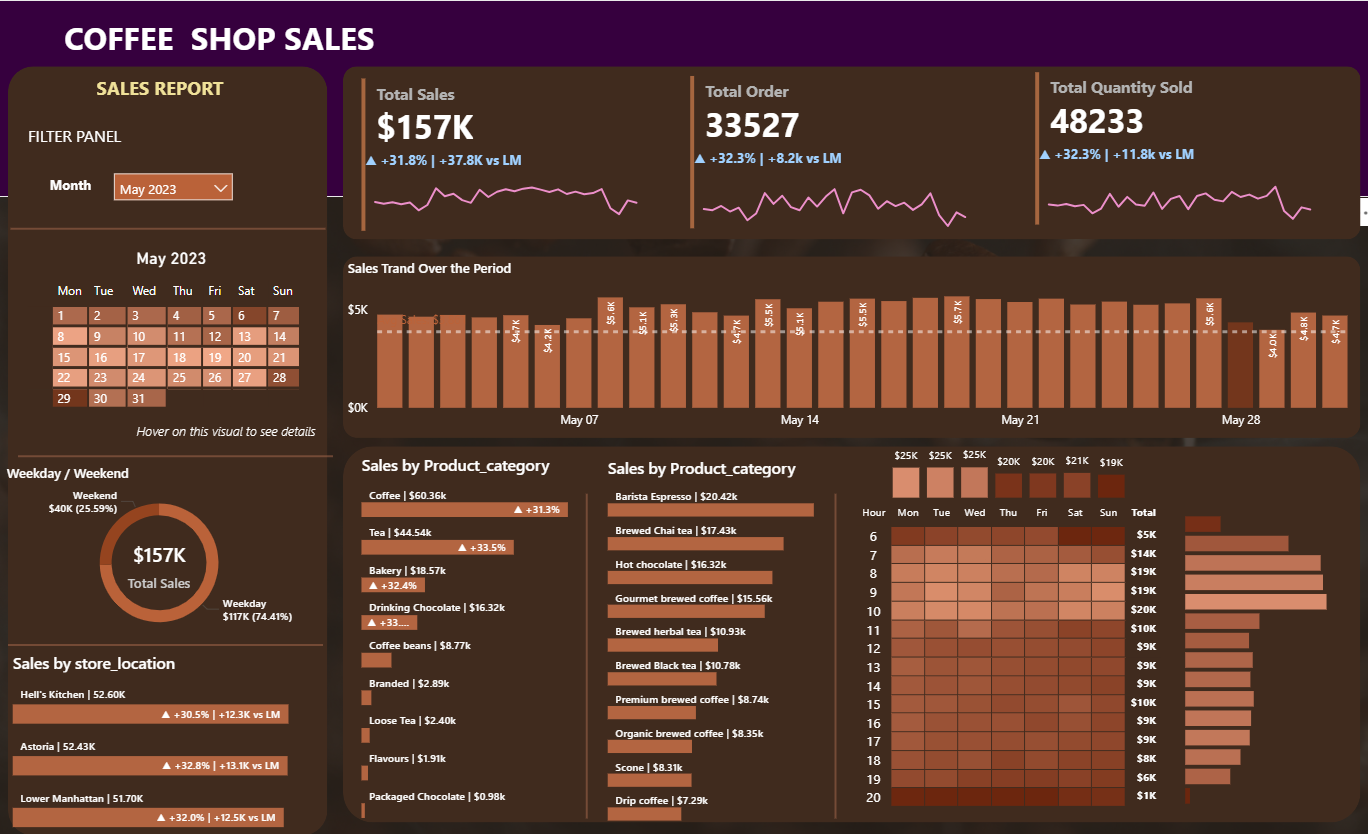

The dashboard page shown, as its layout file describes it:
{"tool":"powerbi","page":{"name":"Coffee shop Dashboard","canvas":[1400,850],"ordinal":0},"visuals":[{"type":"shape","box":[0,0,1400,200],"z":0},{"type":"cardVisual","fields":{"Data":["Transactions.Total Quantity Sold"]},"box":[1050,68.4,300,165],"z":0,"group":"g3"},{"type":"cardVisual","fields":{"Data":["Transactions.Total Order"]},"box":[700,72.4,300,165],"z":0,"group":"g2"},{"type":"cardVisual","fields":{"Data":["Transactions.Total Sales"]},"box":[364.5,75,300,165],"z":0,"group":"g1"},{"type":"donutChart","title":" Weekday / Weekend","fields":{"Category":["Date Table.Weekday / Weekend"],"Y":["Transactions.Total Sales"]},"box":[3.8,471.8,320.5,184.4],"z":0,"group":"g4"},{"type":"shape","box":[10.5,67.1,325,782.9],"z":1000},{"type":"lineChart","fields":{"Category":["Date Table.Date Hierarchy.Date"],"Y":["Transactions.Total Quantity Sold"]},"box":[1053.9,147.3,296.1,85.5],"z":1000,"group":"g3"},{"type":"lineChart","fields":{"Category":["Date Table.Date Hierarchy.Date"],"Y":["Transactions.Total Order"]},"box":[703.9,151.3,296.1,85.5],"z":1000,"group":"g2"},{"type":"lineChart","fields":{"Category":["Date Table.Date Hierarchy.Date"],"Y":["Transactions.Total Sales"]},"box":[368.4,153.9,296.1,85.5],"z":1000,"group":"g1"},{"type":"card","fields":{"Values":["Transactions.Total Sales"]},"box":[122.1,547.2,83.9,56.8],"z":1000,"group":"g4"},{"type":"shape","box":[351.3,67.1,1035.5,176.3],"z":2000},{"type":"textbox","box":[61.8,11.8,344.7,55.3],"z":3000},{"type":"slicer","fields":{"Values":["Date Table.Month Year"]},"box":[113.2,171.7,131,34.3],"z":4000},{"type":"group","id":"g1","title":"Group 1","box":[364.5,75,300,164.5],"z":5000},{"type":"group","id":"g2","title":"Group 1","box":[700,72.4,300,164.5],"z":6000},{"type":"group","id":"g3","title":"Group 1","box":[1050,68.4,300,164.5],"z":7000},{"type":"pivotTable","fields":{"Rows":["Date Table.Week Number"],"Columns":["Date Table.Day Name"],"Values":["Min(Date Table.Day Number)"]},"box":[25.3,281,305.1,167.1],"z":8000},{"type":"card","fields":{"Values":["Min(Date Table.Month Year)"]},"box":[108.9,245.6,130.4,35.4],"z":9000},{"type":"card","fields":{"Values":["Transactions.Foot Notes"]},"box":[124.1,425.3,211.4,22.8],"z":10000},{"type":"shape","box":[10.2,649.9,320.5,12.7],"z":11000},{"type":"shape","box":[12.7,226.4,320.5,12.7],"z":12000},{"type":"clusteredBarChart","title":"Sales by store_location","fields":{"Category":["Transactions.store_location"],"Y":["Transactions.PlaceHolder","Transactions.Total Sales"]},"box":[10.2,662.6,318,187],"z":13000},{"type":"group","id":"g4","title":"Group 2","box":[3.8,471.8,320.5,184.4],"z":14000},{"type":"shape","box":[665.2,496,320.5,12.7],"z":15000},{"type":"shape","box":[351,454,1035.3,382.8],"z":16000},{"type":"shape","box":[351,260.7,1035.3,185],"z":17000},{"type":"columnChart","title":"Sales Trand Over the Period","fields":{"Category":["Transactions.transaction_date"],"Y":["Transactions.Total Sales"]},"box":[351,263.3,1035.3,181.9],"z":18000},{"type":"clusteredBarChart","title":"Sales by Product_category","fields":{"Y":["Transactions.PlaceHolder","Transactions.Total Sales"],"Category":["Transactions.product_category"]},"box":[365,461.7,250.5,376.5],"z":19000},{"type":"shape","box":[20.2,457.7,320.5,12.7],"z":20000},{"type":"shape","box":[592.7,502.4,12.7,330.7],"z":21000},{"type":"clusteredBarChart","title":"Sales by Product_category","fields":{"Y":["Transactions.PlaceHolder","Transactions.Total Sales"],"Category":["Transactions.product_type"]},"box":[615.6,464.2,253.1,376.5],"z":22000},{"type":"shape","box":[845.8,502.4,12.7,330.7],"z":23000},{"type":"pivotTable","fields":{"Rows":["Transactions.Hour"],"Columns":["Date Table.Day Name"],"Values":["Transactions.Total Sales"]},"box":[868.6,508.7,334.5,318],"z":24000},{"type":"clusteredBarChart","fields":{"Category":["Transactions.Hour"],"Y":["Transactions.Total Sales"]},"box":[1203.1,512.5,156.4,310.3],"z":25000},{"type":"clusteredColumnChart","fields":{"Y":["Transactions.Total Sales"],"Category":["Date Table.Day Name"]},"box":[905.5,445.1,246.7,67.4],"z":26000},{"type":"textbox","box":[38.2,174.2,71.2,31.8],"z":27000},{"type":"textbox","box":[86.5,57.2,167.9,59.8],"z":28000},{"type":"textbox","box":[25.4,122.1,109.4,35.6],"z":29000}]}

Visuals, with their boxes in screenshot pixels (x1, y1, x2, y2), scaled from the page's 1400x850 canvas onto the 1368x834 screenshot:
shape: select_region(0, 0, 1367, 196)
cardVisual - Transactions.Total Quantity Sold: select_region(1026, 67, 1319, 229)
cardVisual - Transactions.Total Order: select_region(684, 71, 977, 233)
cardVisual - Transactions.Total Sales: select_region(356, 74, 649, 235)
" Weekday / Weekend" donutChart: select_region(4, 463, 317, 644)
shape: select_region(10, 66, 328, 833)
lineChart - Date Table.Date Hierarchy.Date x Transactions.Total Quantity Sold: select_region(1030, 145, 1319, 228)
lineChart - Date Table.Date Hierarchy.Date x Transactions.Total Order: select_region(688, 148, 977, 232)
lineChart - Date Table.Date Hierarchy.Date x Transactions.Total Sales: select_region(360, 151, 649, 235)
card - Transactions.Total Sales: select_region(119, 537, 201, 593)
shape: select_region(343, 66, 1355, 239)
textbox: select_region(60, 12, 397, 66)
slicer - Date Table.Month Year: select_region(111, 168, 239, 202)
"Group 1" group: select_region(356, 74, 649, 235)
"Group 1" group: select_region(684, 71, 977, 232)
"Group 1" group: select_region(1026, 67, 1319, 229)
pivotTable - Date Table.Week Number x Date Table.Day Name: select_region(25, 276, 323, 440)
card - Min(Date Table.Month Year): select_region(106, 241, 234, 276)
card - Transactions.Foot Notes: select_region(121, 417, 328, 440)
shape: select_region(10, 638, 323, 650)
shape: select_region(12, 222, 326, 235)
"Sales by store_location" clusteredBarChart: select_region(10, 650, 321, 833)
"Group 2" group: select_region(4, 463, 317, 644)
shape: select_region(650, 487, 963, 499)
shape: select_region(343, 445, 1355, 821)
shape: select_region(343, 256, 1355, 437)
"Sales Trand Over the Period" columnChart: select_region(343, 258, 1355, 437)
"Sales by Product_category" clusteredBarChart: select_region(357, 453, 601, 822)
shape: select_region(20, 449, 333, 462)
shape: select_region(579, 493, 592, 817)
"Sales by Product_category" clusteredBarChart: select_region(602, 455, 849, 825)
shape: select_region(826, 493, 839, 817)
pivotTable - Transactions.Hour x Date Table.Day Name: select_region(849, 499, 1176, 811)
clusteredBarChart - Transactions.Hour x Transactions.Total Sales: select_region(1176, 503, 1328, 807)
clusteredColumnChart - Transactions.Total Sales x Date Table.Day Name: select_region(885, 437, 1126, 503)
textbox: select_region(37, 171, 107, 202)
textbox: select_region(85, 56, 249, 115)
textbox: select_region(25, 120, 132, 155)
